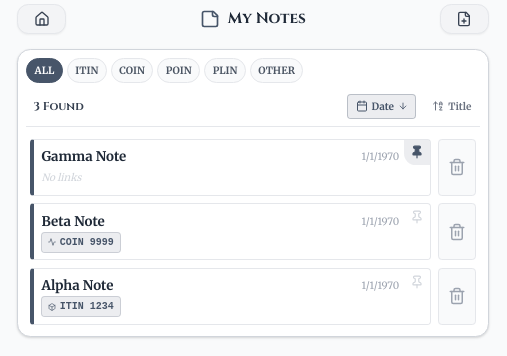
it: MyNotes Page › filters notes by ITIN linkedId
Click the button "ITIN" at point(87, 70), box [67,58,107,83]
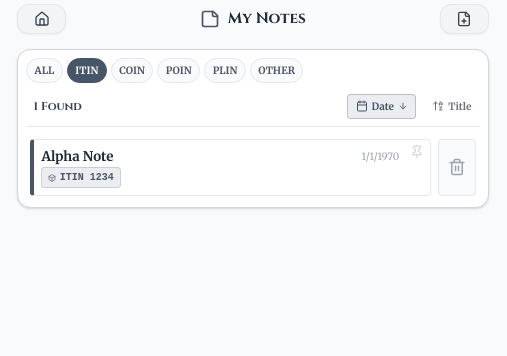
Check: the text "Alpha Note" is shown, box [41,147,121,166]
Check: the text "Beta Note" is gone
Check: the text "1 Found" is shown, box [34,99,82,114]
